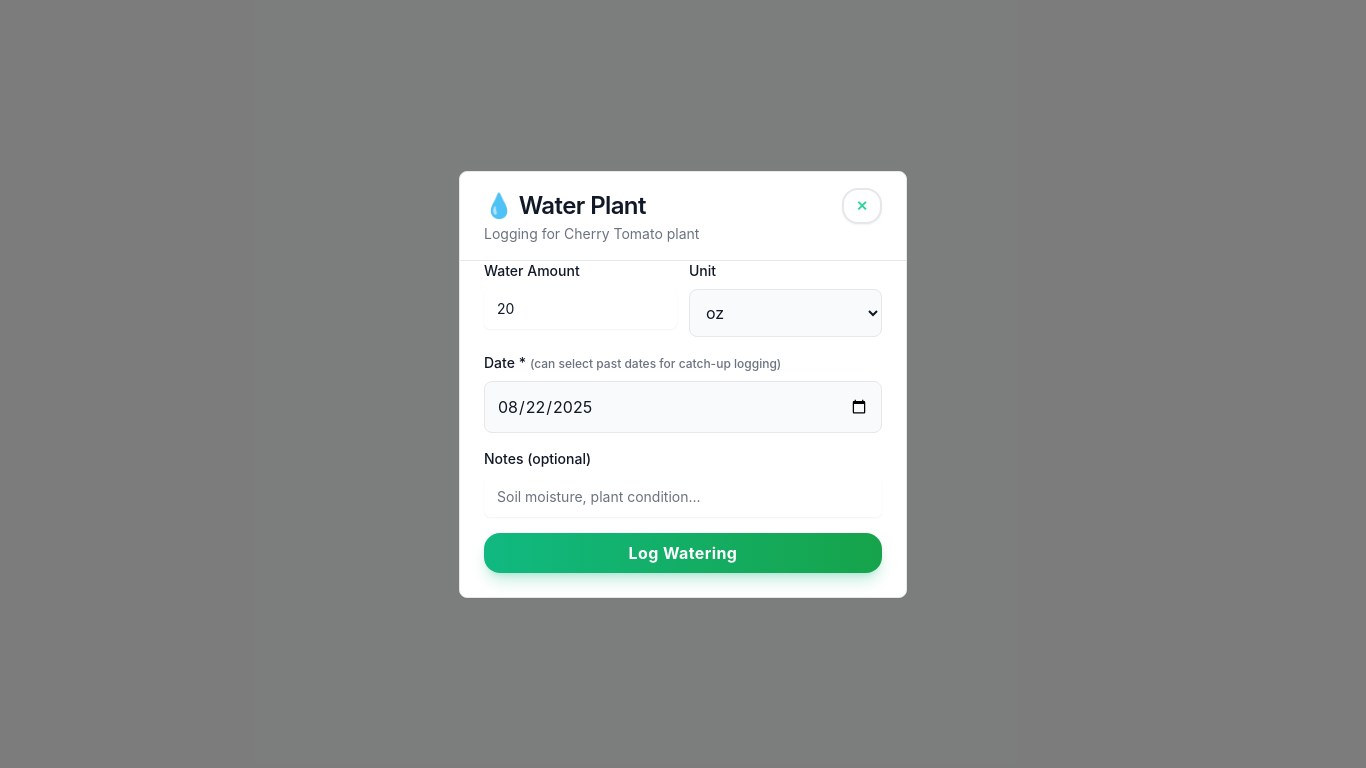
Test: BulkActivityModal - UI Interactions › Form Validation UI › should show loading state during submission
This screenshot has width=1366, height=768.
What coordinates should you click on to do the following:
click the button "Log Watering"
I would click on:
 (683, 552)
Its box is 484,532 -> 882,572.
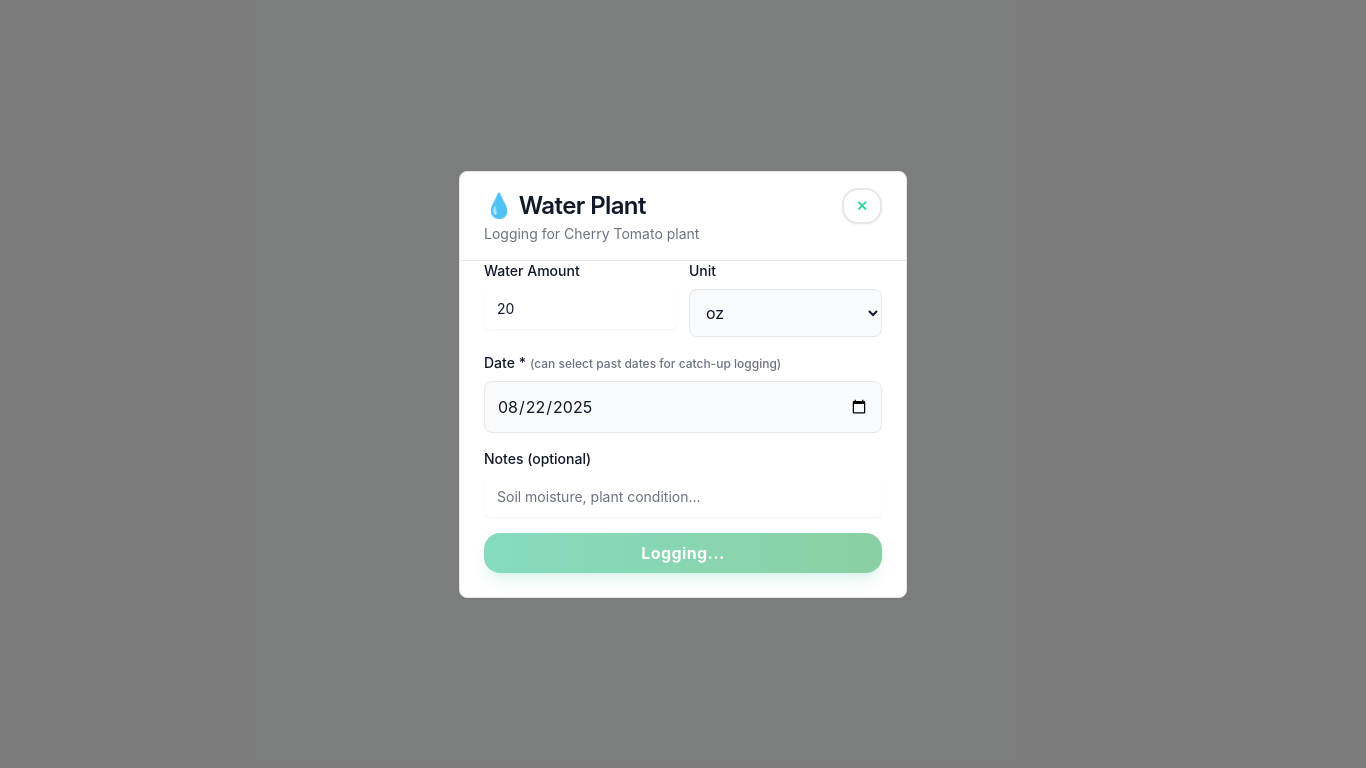
Expected: the button "Logging..." is disabled, 484,532 -> 882,572
Expected: the text "Logging..." is shown, 641,540 -> 725,564
